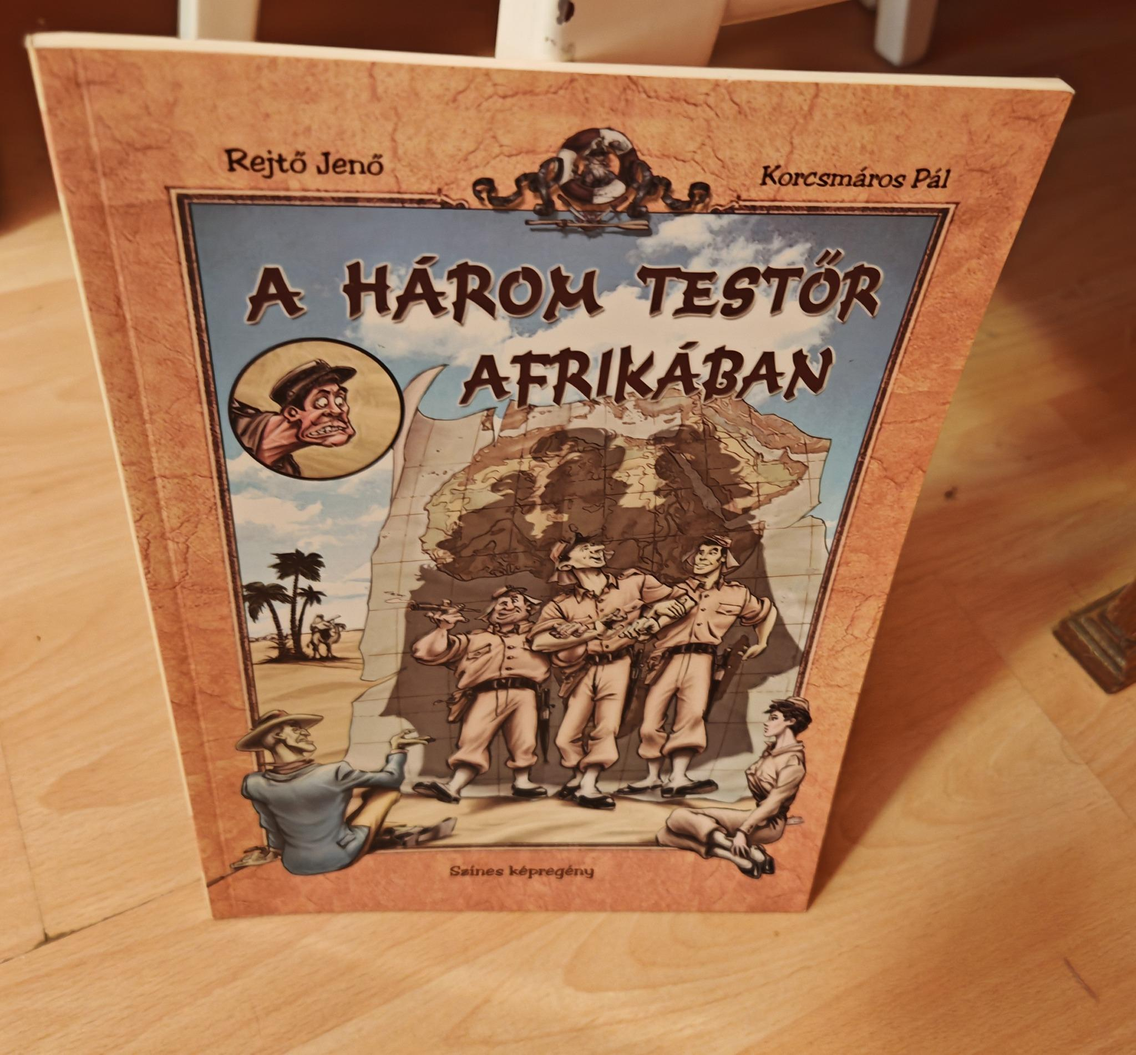comic: (0, 33, 1069, 951)
